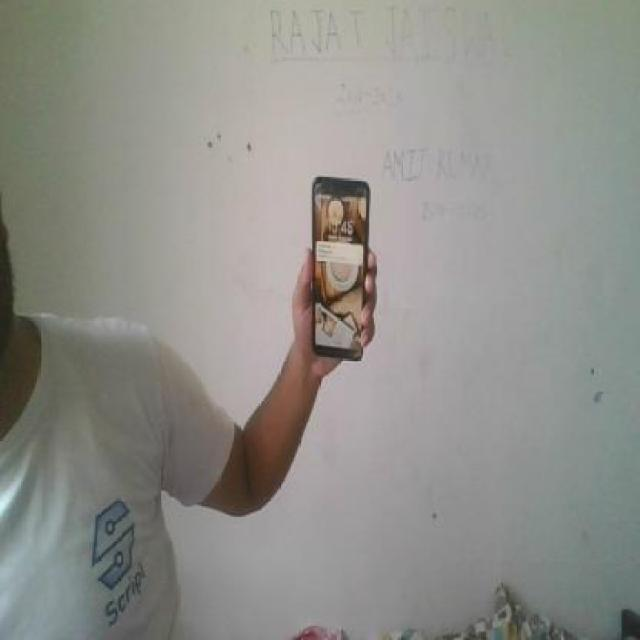Phone: (303, 172, 376, 364)
